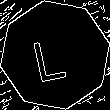L_N: (35, 27, 75, 83)
